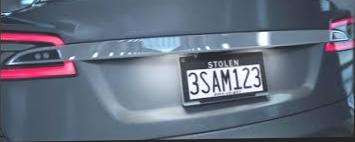License_Plate: (183, 62, 266, 97)
